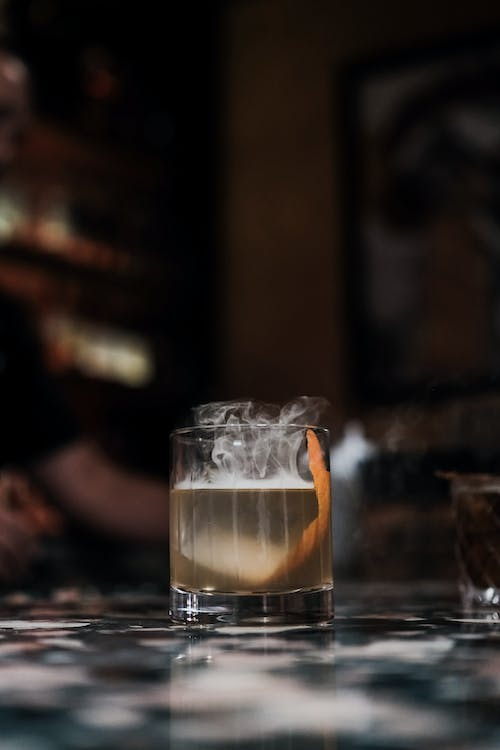alcohol: (165, 421, 336, 630)
